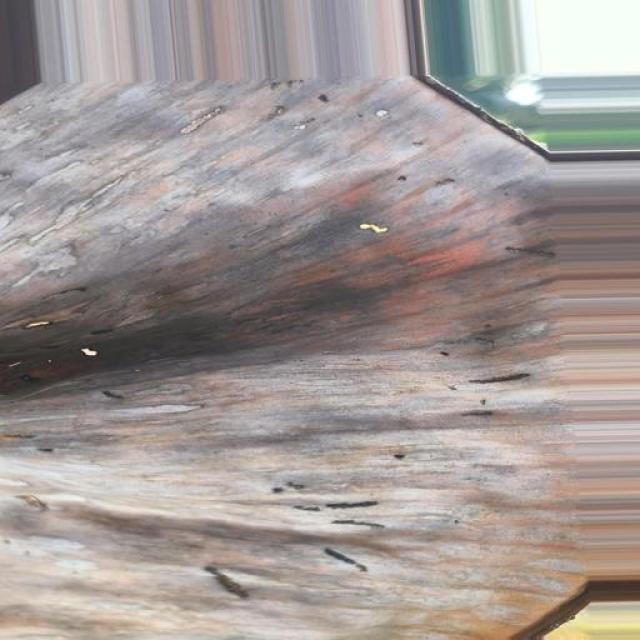Bract_mosaic_virus: (2, 1, 640, 640)
